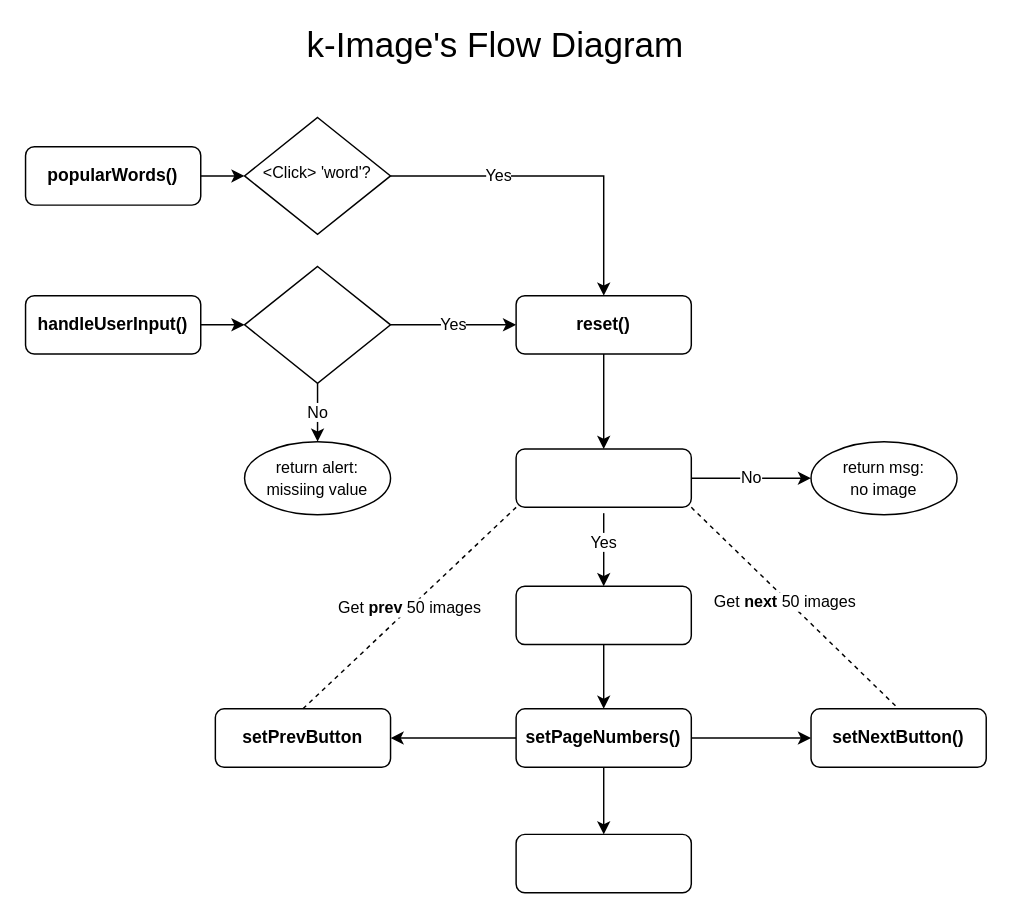
Some shapes in this 1012 by 918 pixel diagram are drawn without their labels. The box of each missing label's shape, as (x1, y1, x2, y2) in pixels:
<Submit> input value?: (243, 265, 391, 383)
displayResults(): (515, 585, 691, 645)
getImages(): (515, 447, 691, 507)
setButtonEvent(): (515, 833, 691, 893)
